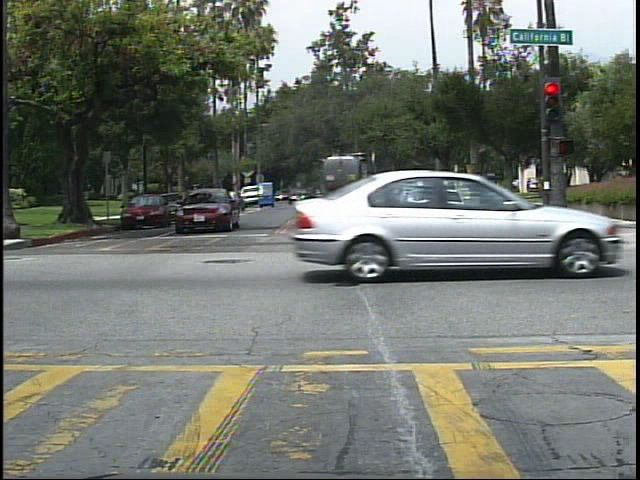car: (277, 173, 640, 292), (177, 184, 241, 238), (116, 189, 166, 224), (242, 180, 261, 206)
